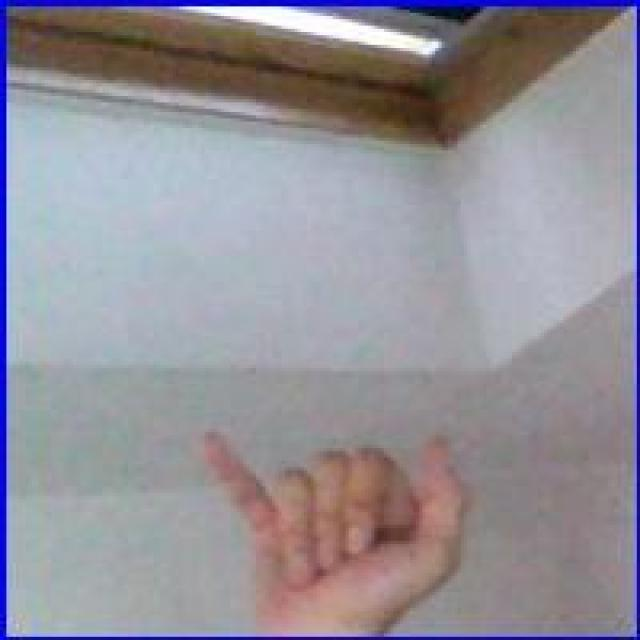Y: (196, 418, 482, 635)
